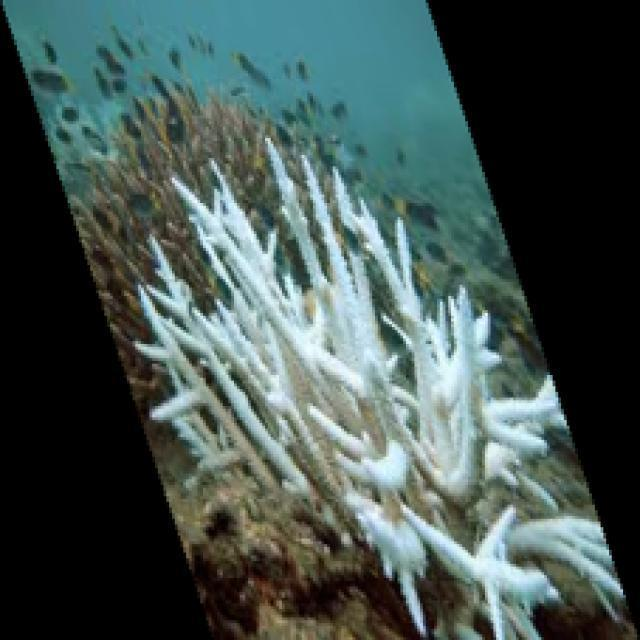Bleached: (134, 142, 628, 640)
